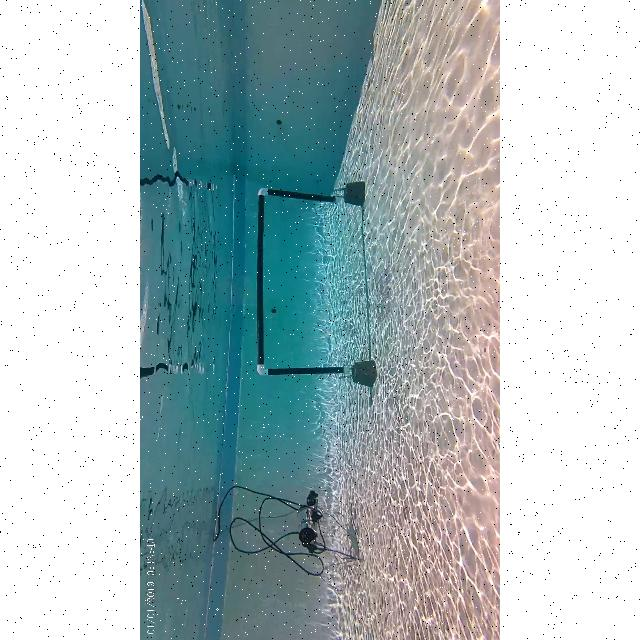prequal gate: (257, 188, 349, 376)
prequal gate leg l: (248, 357, 388, 391)
prequal gate leg r: (246, 172, 374, 218)
